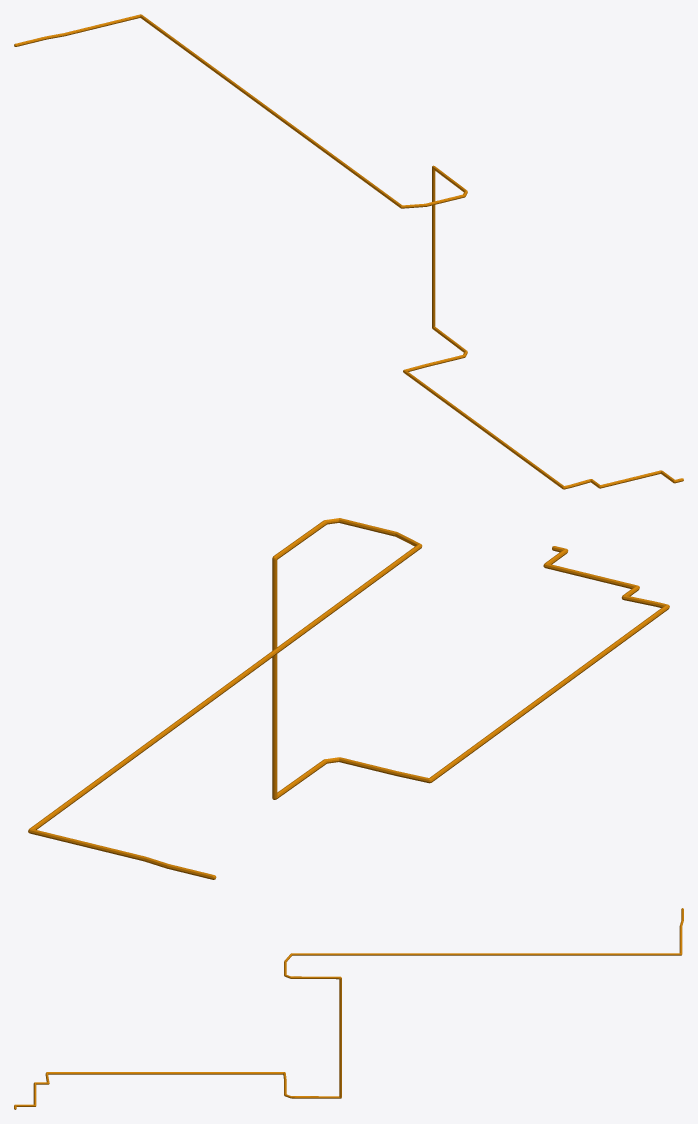
3 views of the same model, one above another, from view 1: azimuth 30°, elevation 25°; view 2: azimuth 150°, elevation 25°; view 3: azimuth 270°, elevation 25° (orthographic). The views are drawn at different scales.
Bounding box in the file's own units: 1450 × 1020 × 5078.
